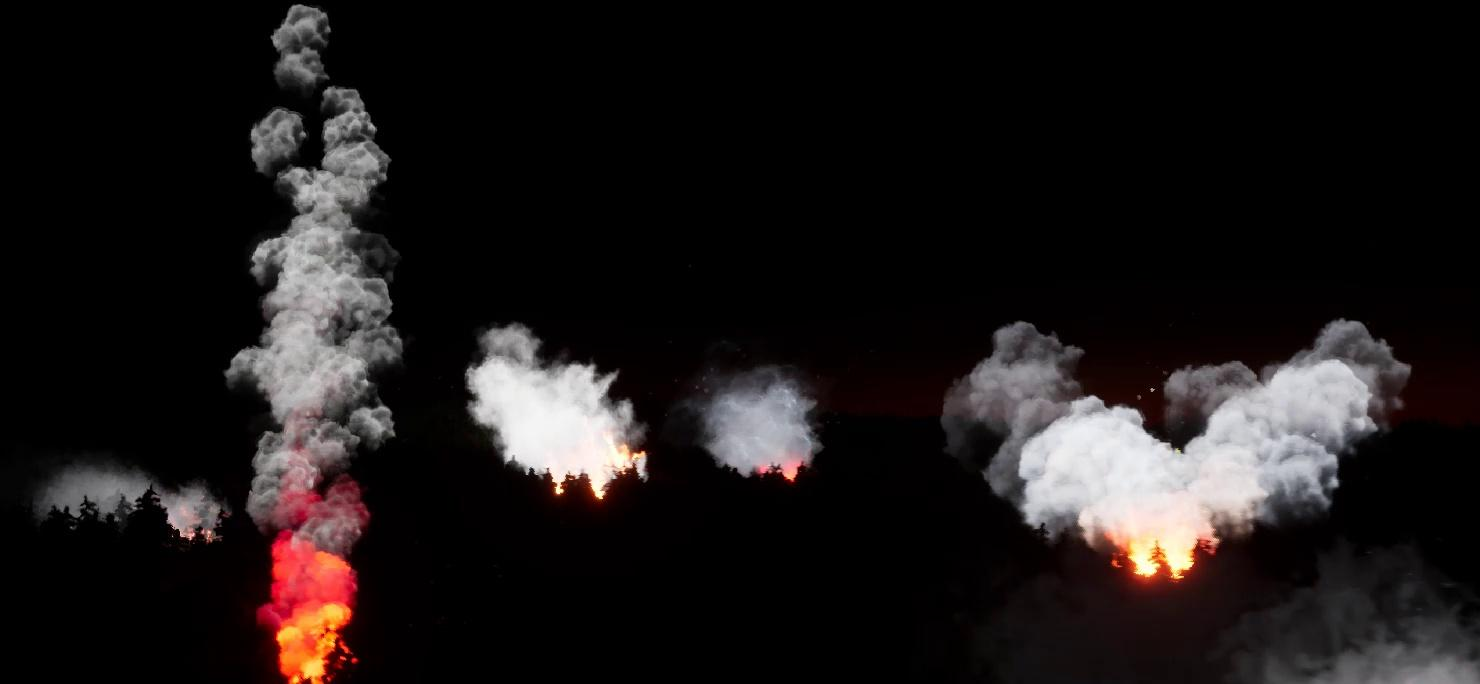fire: (250, 527, 368, 683), (1101, 529, 1214, 581)
smoke: (940, 322, 1409, 545), (230, 1, 404, 578), (465, 322, 655, 493), (1260, 578, 1479, 683), (30, 465, 222, 545), (691, 373, 822, 478)
